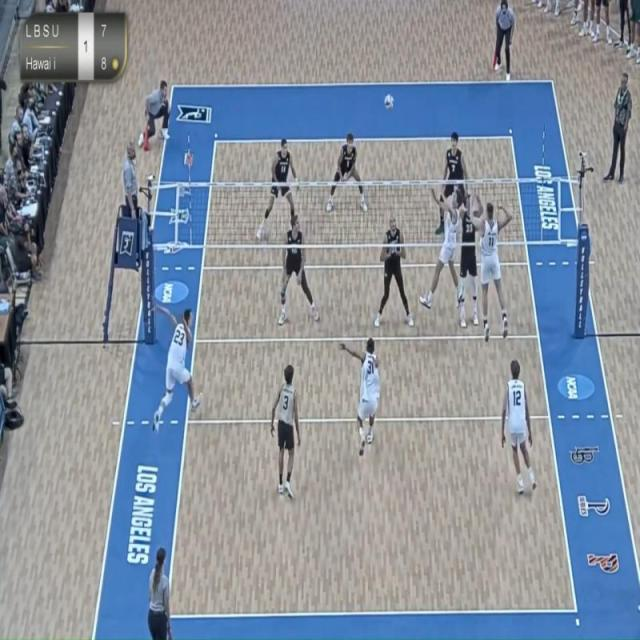volleyball: (382, 88, 396, 113)
